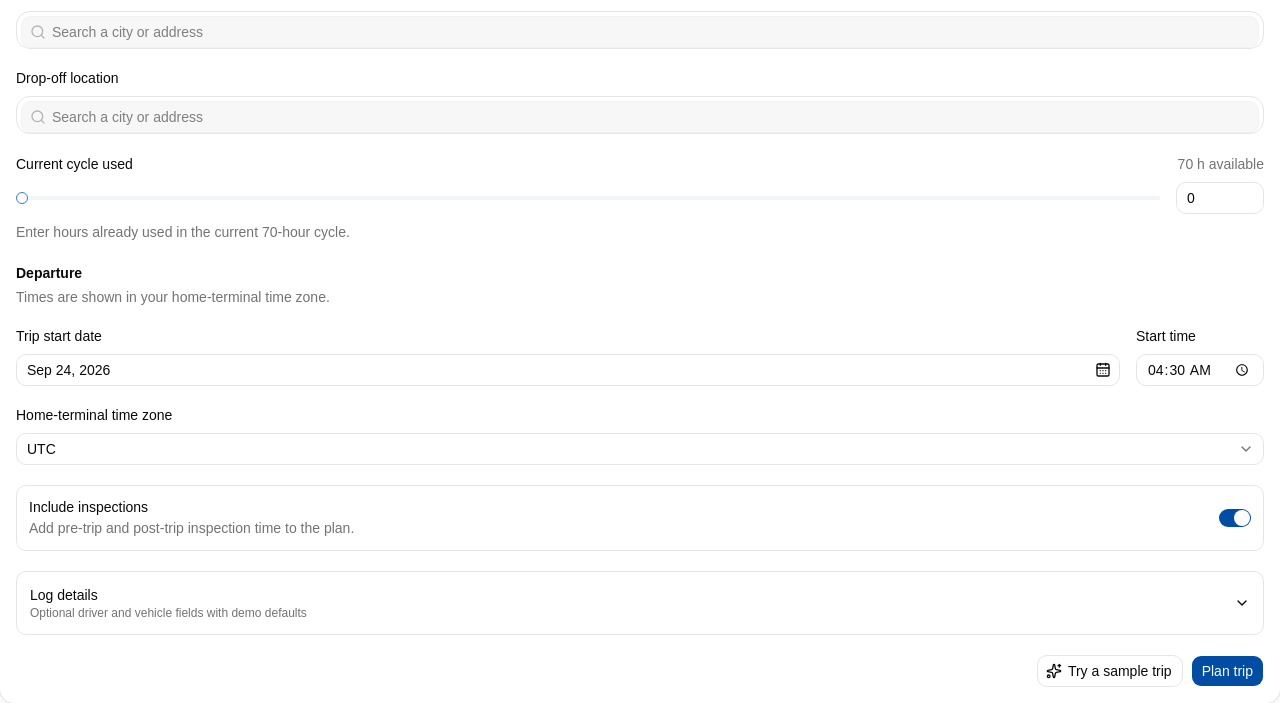
it: TripForm › shows defaults and expands prefilled log details
The width and height of the screenshot is (1280, 703).
(page scrolled)
expect the button with test id "input-start-time" reads "Sep 24, 2026": met, box [16,354,1120,386]
expect the switch named "include inspections" is checked: met, box [1219,509,1251,527]
Click the button with test id "log-details" at [64, 594], box [17,572,1263,634]
(page scrolled)
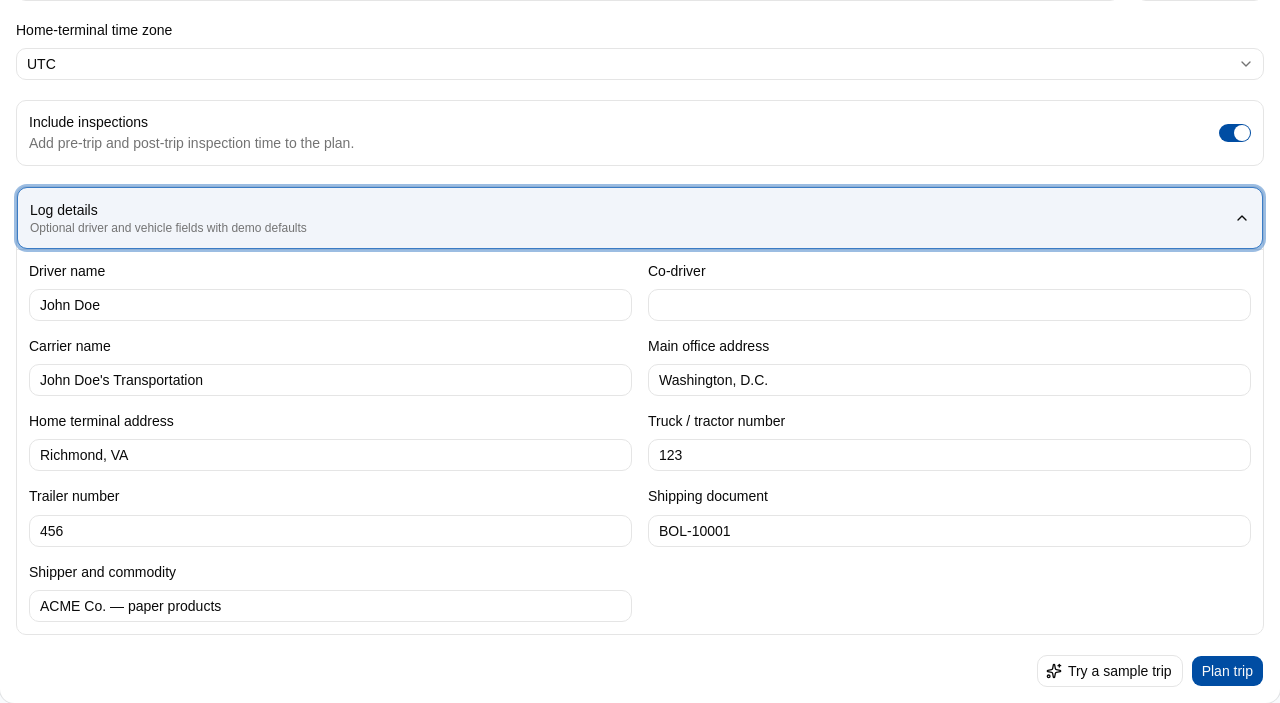
expect the field labelled "Driver name" holds "John Doe": met, box [29,289,632,321]
expect the field labelled "Carrier name" holds "John Doe's Transportation": met, box [29,364,632,396]
expect the field labelled "Shipping document" holds "BOL-10001": met, box [648,514,1251,546]
